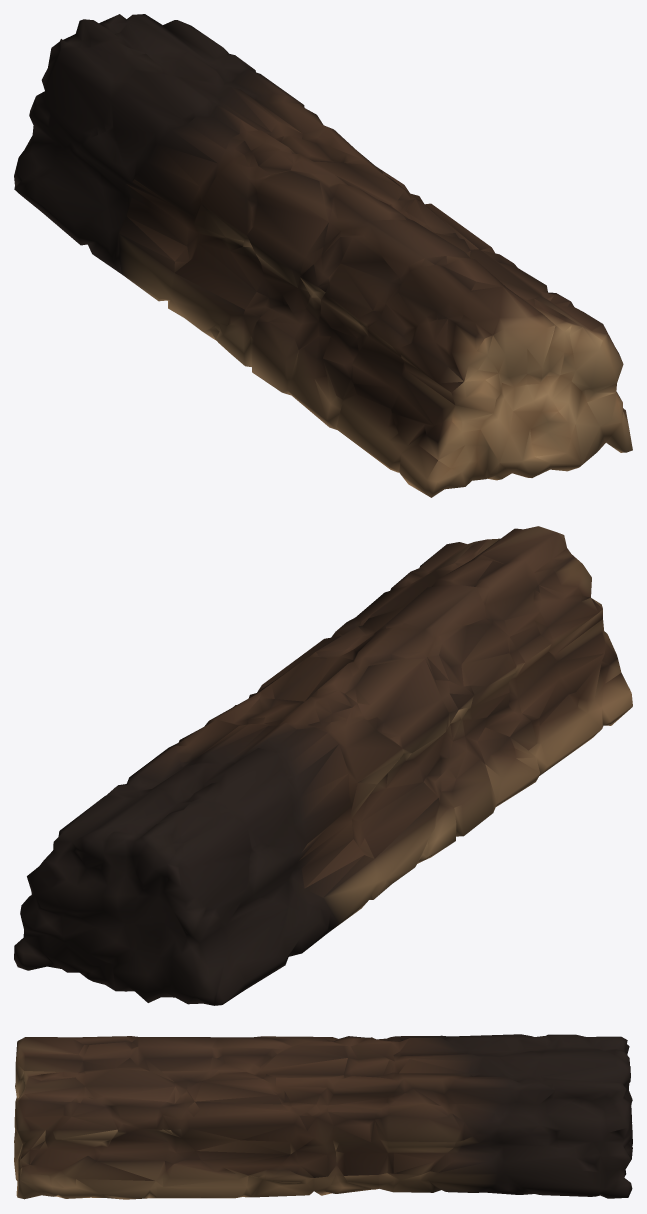
File: ember_split_log_c_lod1.glb
The picture shows the model from 3 angles, top to bottom: view 1: azimuth 30°, elevation 25°; view 2: azimuth 150°, elevation 25°; view 3: azimuth 270°, elevation 25°; orthographic projection. The views are drawn at different scales.
Visible parts, largest first — view 1: ember_split_log_c.001; view 2: ember_split_log_c.001; view 3: ember_split_log_c.001.
Boxes of the visible parts, bbox=[...] form: ember_split_log_c.001: bbox=[14, 14, 632, 497]; ember_split_log_c.001: bbox=[14, 526, 632, 1005]; ember_split_log_c.001: bbox=[14, 1034, 632, 1199].
Bounding box in the file's own units: 16.17 × 12.71 × 56.97.
